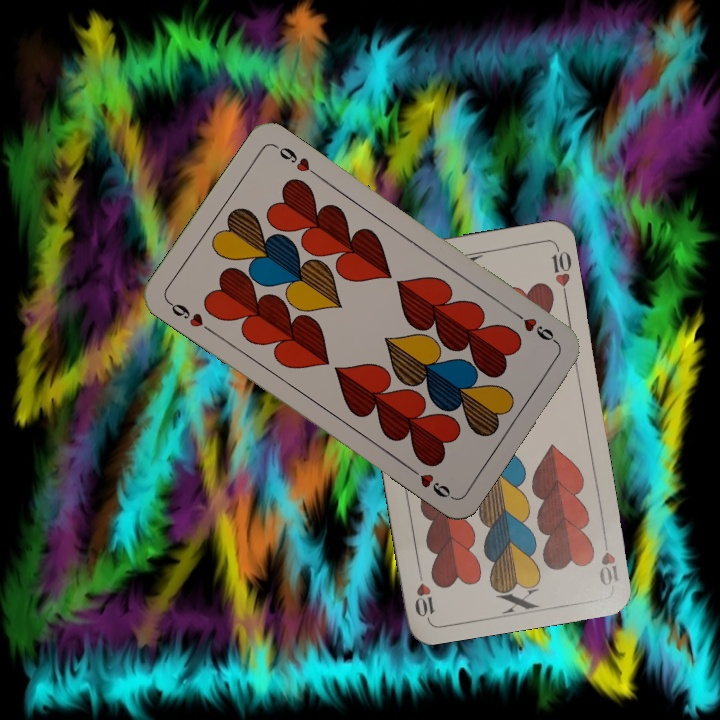H10: (595, 530, 622, 588)
H9: (508, 307, 560, 347), (163, 297, 215, 336)
